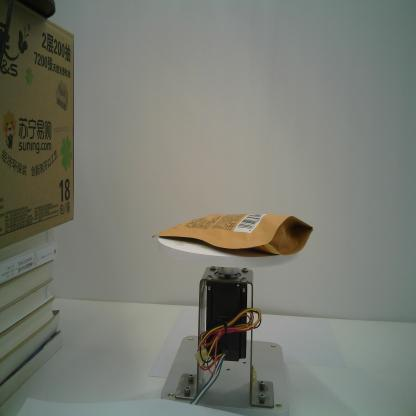Dried Fruit: (153, 212, 314, 256)
